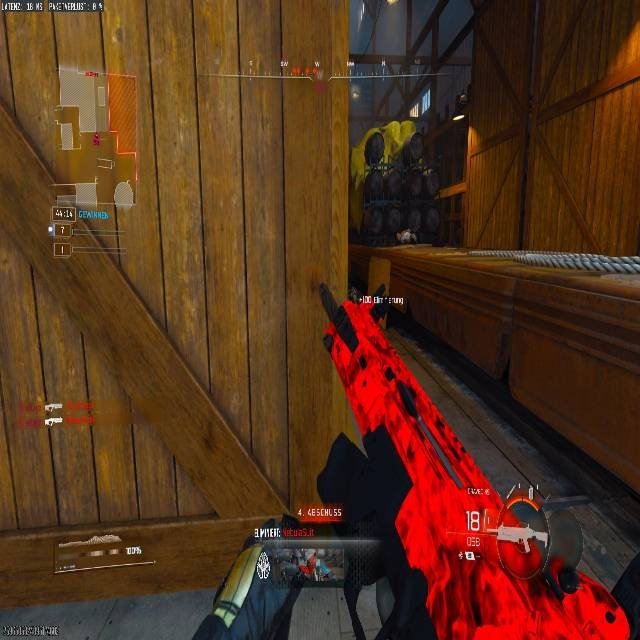player: (396, 229, 417, 245)
